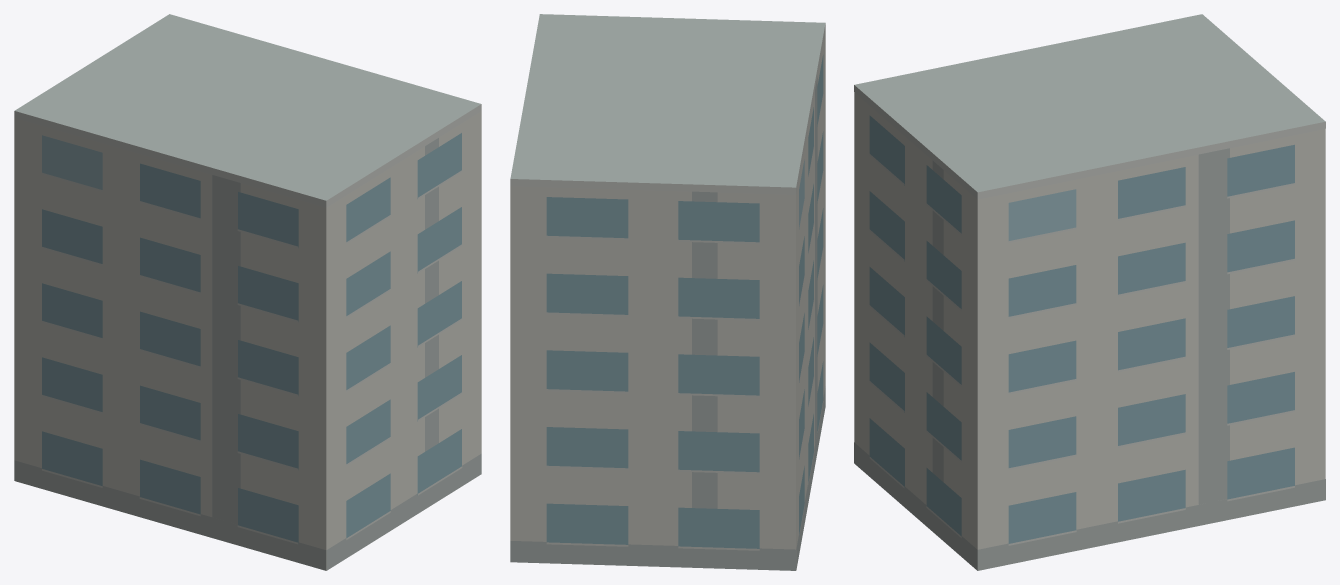
File: survey-upis-32961235.glb
3 renders of one model, left to right at view 1: azimuth 30°, elevation 25°; view 2: azimuth 150°, elevation 25°; view 3: azimuth 270°, elevation 25°, orthographic. The views are drawn at different scales.
Visible parts, largest first — view 1: survey-upis-32961235.tmp; view 2: survey-upis-32961235.tmp; view 3: survey-upis-32961235.tmp.
Part boxes in pixels (left/top/right/bottom): survey-upis-32961235.tmp: left=14, top=14, right=481, bottom=570; survey-upis-32961235.tmp: left=510, top=14, right=825, bottom=570; survey-upis-32961235.tmp: left=854, top=14, right=1325, bottom=570.
Bounding box in the file's own units: 13.15 × 13 × 14.69.
